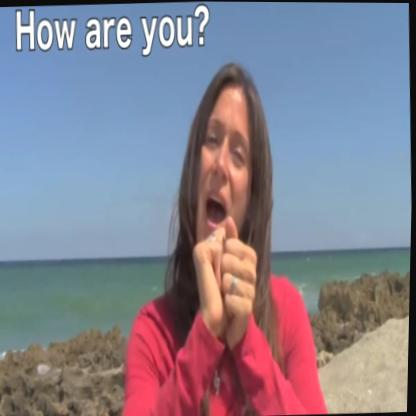HowAreYou: (185, 209, 271, 350)
